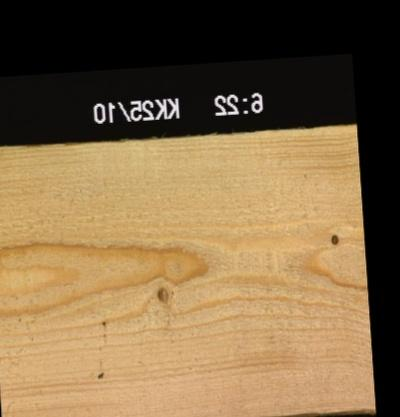dry_knot: (328, 231, 340, 245)
sound_knot: (155, 284, 171, 303)
